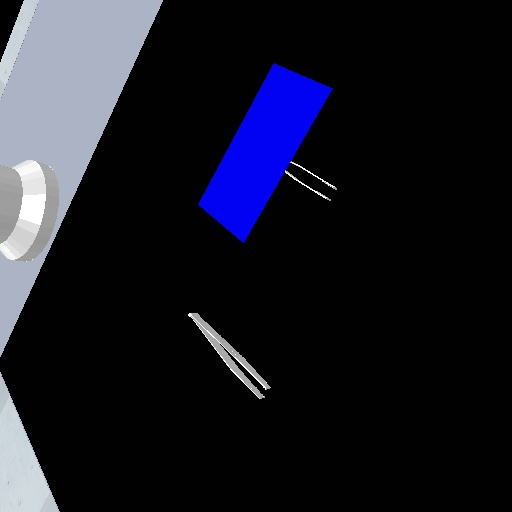pinza: (184, 308, 274, 401), (282, 158, 340, 202)
